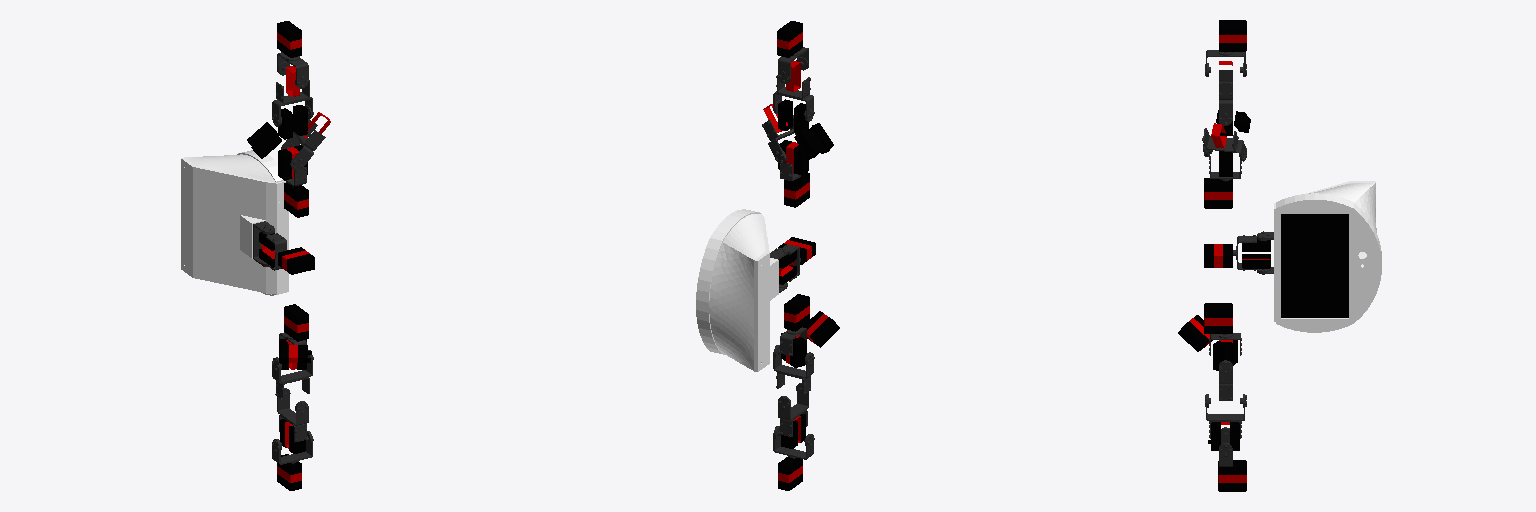
The robot description file, URDF, robot "bobot":
<robot name="bobot" version="1.0">
  <joint name="head" type="revolute">
    <limit lower="-0.50000" upper="0.50000" effort="0.00000" velocity="0.00000"/>
    <origin rpy="0.00000 0.00000 0.00000" xyz="0.00000 1.90250 -0.00500"/>
    <parent link="neck_plast_link"/>
    <child link="head_steel_link"/>
    <axis xyz="0.00000 0.00000 1.00000"/>
  </joint>
  <joint name="leftArm1" type="revolute">
    <limit lower="-1.83000" upper="1.83000" effort="0.00000" velocity="0.00000"/>
    <origin rpy="0.00000 0.00000 0.00000" xyz="-0.00000 17.49999 -6.17249"/>
    <parent link="body0_plast_white_link"/>
    <child link="leftArm1_plast_link"/>
    <axis xyz="0.00000 0.00000 1.00000"/>
  </joint>
  <joint name="leftArm2" type="revolute">
    <limit lower="-1.83400" upper="1.83400" effort="0.00000" velocity="0.00000"/>
    <origin rpy="0.00000 0.00000 0.00000" xyz="-0.00500 -0.00000 -1.87501"/>
    <parent link="leftArm1_plast_link"/>
    <child link="leftArm2_plast_link"/>
    <axis xyz="0.00000 -1.00000 0.00000"/>
  </joint>
  <joint name="leftArm3" type="revolute">
    <limit lower="-1.83400" upper="1.83400" effort="0.00000" velocity="0.00000"/>
    <origin rpy="0.00000 0.00000 0.00000" xyz="0.00000 0.00000 -3.20000"/>
    <parent link="leftArm2_plast_link"/>
    <child link="leftArm3_plast_link"/>
    <axis xyz="0.00000 -1.00000 0.00000"/>
  </joint>
  <joint name="leftArm4" type="revolute">
    <limit lower="-1.83000" upper="1.83000" effort="0.00000" velocity="0.00000"/>
    <origin rpy="0.00000 0.00000 0.00000" xyz="-0.00000 0.00000 -3.20000"/>
    <parent link="leftArm3_plast_link"/>
    <child link="leftArm4_link"/>
    <axis xyz="0.00000 -1.00000 0.00000"/>
  </joint>
  <joint name="leftArm5" type="revolute">
    <limit lower="-1.83400" upper="1.83400" effort="0.00000" velocity="0.00000"/>
    <origin rpy="0.00000 0.00000 0.00000" xyz="-0.00000 -0.00500 -1.32502"/>
    <parent link="leftArm4_link"/>
    <child link="leftArm5_plast_link"/>
    <axis xyz="0.00000 0.00000 1.00000"/>
  </joint>
  <joint name="neck" type="revolute">
    <limit lower="-1.83400" upper="1.83400" effort="0.00000" velocity="0.00000"/>
    <origin rpy="0.00000 0.00000 0.00000" xyz="-0.50000 18.26999 -0.00000"/>
    <parent link="body0_plast_white_link"/>
    <child link="neck_plast_link"/>
    <axis xyz="0.00000 1.00000 0.00000"/>
  </joint>
  <joint name="rightArm1" type="revolute">
    <limit lower="-1.83000" upper="1.83000" effort="0.00000" velocity="0.00000"/>
    <origin rpy="0.00000 0.00000 0.00000" xyz="0.00000 17.49999 6.17249"/>
    <parent link="body0_plast_white_link"/>
    <child link="rightArm1_steel_link"/>
    <axis xyz="0.00000 0.00000 1.00000"/>
  </joint>
  <joint name="rightArm2" type="revolute">
    <limit lower="-1.83400" upper="1.83400" effort="0.00000" velocity="0.00000"/>
    <origin rpy="0.00000 0.00000 0.00000" xyz="-0.00000 0.00500 1.87501"/>
    <parent link="rightArm1_steel_link"/>
    <child link="rightArm2_steel_link"/>
    <axis xyz="0.00000 1.00000 0.00000"/>
  </joint>
  <joint name="rightArm3" type="revolute">
    <limit lower="-1.83400" upper="1.83400" effort="0.00000" velocity="0.00000"/>
    <origin rpy="0.00000 0.00000 0.00000" xyz="0.00000 0.00000 3.20000"/>
    <parent link="rightArm2_steel_link"/>
    <child link="rightArm3_steel_link"/>
    <axis xyz="0.00000 1.00000 0.00000"/>
  </joint>
  <joint name="rightArm4" type="revolute">
    <limit lower="-1.83400" upper="1.83400" effort="0.00000" velocity="0.00000"/>
    <origin rpy="0.00000 0.00000 0.00000" xyz="0.00000 0.00000 3.19999"/>
    <parent link="rightArm3_steel_link"/>
    <child link="rightArm4_link"/>
    <axis xyz="0.00000 1.00000 0.00000"/>
  </joint>
  <joint name="rightArm5" type="revolute">
    <limit lower="-1.83400" upper="1.83400" effort="0.00000" velocity="0.00000"/>
    <origin rpy="0.00000 0.00000 0.00000" xyz="0.00000 -0.00500 1.32502"/>
    <parent link="rightArm4_link"/>
    <child link="rightArm5_red_link"/>
    <axis xyz="0.00000 0.00000 1.00000"/>
  </joint>
  <link name="body0_plast_white_link">
    <visual name="body0_plast_white">
      <origin rpy="0.00000 0.00000 0.00000" xyz="0.00000 0.00000 0.00000"/>
      <material name="white"/>
      <geometry>
        <mesh filename="../meshes/stl/body_white.stl" scale="1.00000 1.00000 1.00000"/>
      </geometry>
    </visual>
    <visual name="body_plast">
      <origin rpy="0.00000 0.00000 0.00000" xyz="0.00000 0.00000 0.00000"/>
      <material name="black"/>
      <geometry>
        <mesh filename="../meshes/stl/body_black.stl" scale="1.00000 1.00000 1.00000"/>
      </geometry>
    </visual>
    <visual name="body_plast_red">
      <origin rpy="0.00000 0.00000 0.00000" xyz="0.00000 0.00000 0.00000"/>
      <material name="red"/>
      <geometry>
        <mesh filename="../meshes/stl/body_red.stl" scale="1.00000 1.00000 1.00000"/>
      </geometry>
    </visual>
  </link>
  <link name="head_steel_link">
    <visual name="head_plast">
      <origin rpy="0.00000 0.00000 0.00000" xyz="0.00000 1.32502 0.00500"/>
      <material name="whiteHead"/>
      <geometry>
        <mesh filename="../meshes/stl/head_white.stl" scale="1.00000 1.00000 1.00000"/>
      </geometry>
    </visual>
    <visual name="head_screen">
      <origin rpy="0.00000 0.00000 0.00000" xyz="0.00000 1.32502 0.00500"/>
      <material name="black"/>
      <geometry>
        <mesh filename="../meshes/stl/head_black.stl" scale="1.00000 1.00000 1.00000"/>
      </geometry>
    </visual>
    <visual name="head_steel">
      <origin rpy="0.00000 0.00000 0.00000" xyz="0.00000 0.00000 0.00000"/>
      <material name="steel"/>
      <geometry>
        <mesh filename="../meshes/stl/head_steel.stl" scale="1.00000 1.00000 1.00000"/>
      </geometry>
    </visual>
  </link>
  <link name="leftArm1_plast_link">
    <visual name="leftArm1_plast">
      <origin rpy="0.00000 0.00000 0.00000" xyz="0.00000 -0.00000 0.00000"/>
      <material name="black"/>
      <geometry>
        <mesh filename="../meshes/stl/LAP1.stl" scale="1.00000 1.00000 1.00000"/>
      </geometry>
    </visual>
    <visual name="leftArm1_red">
      <origin rpy="0.00000 0.00000 0.00000" xyz="-0.00000 -0.00000 0.00000"/>
      <material name="red"/>
      <geometry>
        <mesh filename="../meshes/stl/LAR1.stl" scale="1.00000 1.00000 1.00000"/>
      </geometry>
    </visual>
    <visual name="leftArm1_steel">
      <origin rpy="0.00000 0.00000 0.00000" xyz="-0.00000 -0.00000 0.00000"/>
      <material name="steel"/>
      <geometry>
        <mesh filename="../meshes/stl/LAS1.stl" scale="1.00000 1.00000 1.00000"/>
      </geometry>
    </visual>
  </link>
  <link name="leftArm2_plast_link">
    <visual name="leftArm2_plast">
      <origin rpy="0.00000 0.00000 0.00000" xyz="0.00000 0.00000 0.00000"/>
      <material name="black"/>
      <geometry>
        <mesh filename="../meshes/stl/LAP2.stl" scale="1.00000 1.00000 1.00000"/>
      </geometry>
    </visual>
    <visual name="leftArm2_red">
      <origin rpy="0.00000 0.00000 0.00000" xyz="0.00000 0.00000 0.00000"/>
      <material name="red"/>
      <geometry>
        <mesh filename="../meshes/stl/LAR2.stl" scale="1.00000 1.00000 1.00000"/>
      </geometry>
    </visual>
    <visual name="leftArm2_steel">
      <origin rpy="0.00000 0.00000 0.00000" xyz="0.00000 0.00000 0.00000"/>
      <material name="steel"/>
      <geometry>
        <mesh filename="../meshes/stl/LAS2.stl" scale="1.00000 1.00000 1.00000"/>
      </geometry>
    </visual>
  </link>
  <link name="leftArm3_plast_link">
    <visual name="leftArm3_plast">
      <origin rpy="0.00000 0.00000 0.00000" xyz="0.00000 0.00000 0.00000"/>
      <material name="black"/>
      <geometry>
        <mesh filename="../meshes/stl/LAP3.stl" scale="1.00000 1.00000 1.00000"/>
      </geometry>
    </visual>
    <visual name="leftArm3_red">
      <origin rpy="0.00000 0.00000 0.00000" xyz="-0.00000 0.00000 0.00000"/>
      <material name="red"/>
      <geometry>
        <mesh filename="../meshes/stl/LAR3.stl" scale="1.00000 1.00000 1.00000"/>
      </geometry>
    </visual>
    <visual name="leftArm3_steel">
      <origin rpy="0.00000 0.00000 0.00000" xyz="-0.00000 0.00000 0.00000"/>
      <material name="steel"/>
      <geometry>
        <mesh filename="../meshes/stl/LAS3.stl" scale="1.00000 1.00000 1.00000"/>
      </geometry>
    </visual>
  </link>
  <link name="leftArm4_link">
    <visual name="leftArm4">
      <origin rpy="0.00000 0.00000 0.00000" xyz="0.00000 0.00000 0.00000"/>
      <material name="steel"/>
      <geometry>
        <mesh filename="../meshes/stl/LAS4.stl" scale="1.00000 1.00000 1.00000"/>
      </geometry>
    </visual>
  </link>
  <link name="leftArm5_plast_link">
    <visual name="leftArm5_plast">
      <origin rpy="0.00000 0.00000 0.00000" xyz="0.00000 0.00000 0.00000"/>
      <material name="blackLa"/>
      <geometry>
        <mesh filename="../meshes/stl/LAP5.stl" scale="1.00000 1.00000 1.00000"/>
      </geometry>
    </visual>
    <visual name="leftArm5_red">
      <origin rpy="0.00000 0.00000 0.00000" xyz="0.00000 0.00000 0.00000"/>
      <material name="red"/>
      <geometry>
        <mesh filename="../meshes/stl/LAR5.stl" scale="1.00000 1.00000 1.00000"/>
      </geometry>
    </visual>
  </link>
  <link name="neck_plast_link">
    <visual name="neck_plast">
      <origin rpy="0.00000 0.00000 0.00000" xyz="0.00000 0.00000 0.00000"/>
      <material name="black"/>
      <geometry>
        <mesh filename="../meshes/stl/NP.stl" scale="1.00000 1.00000 1.00000"/>
      </geometry>
    </visual>
    <visual name="neck_red">
      <origin rpy="0.00000 0.00000 0.00000" xyz="0.00000 0.00000 0.00000"/>
      <material name="red"/>
      <geometry>
        <mesh filename="../meshes/stl/NR.stl" scale="1.00000 1.00000 1.00000"/>
      </geometry>
    </visual>
    <visual name="neck_steel">
      <origin rpy="0.00000 0.00000 0.00000" xyz="0.00000 0.00000 0.00000"/>
      <material name="steel"/>
      <geometry>
        <mesh filename="../meshes/stl/NS.stl" scale="1.00000 1.00000 1.00000"/>
      </geometry>
    </visual>
  </link>
  <link name="rightArm1_steel_link">
    <visual name="rightArm1_plast">
      <origin rpy="0.00000 0.00000 0.00000" xyz="-0.00000 0.00000 0.00000"/>
      <material name="black"/>
      <geometry>
        <mesh filename="../meshes/stl/RAP1.stl" scale="1.00000 1.00000 1.00000"/>
      </geometry>
    </visual>
    <visual name="rightArm1_red">
      <origin rpy="0.00000 0.00000 0.00000" xyz="-0.00000 0.00000 0.00000"/>
      <material name="red"/>
      <geometry>
        <mesh filename="../meshes/stl/RAR1.stl" scale="1.00000 1.00000 1.00000"/>
      </geometry>
    </visual>
    <visual name="rightArm1_steel">
      <origin rpy="0.00000 0.00000 0.00000" xyz="-0.00000 0.00000 0.00000"/>
      <material name="steel"/>
      <geometry>
        <mesh filename="../meshes/stl/RAS1.stl" scale="1.00000 1.00000 1.00000"/>
      </geometry>
    </visual>
  </link>
  <link name="rightArm2_steel_link">
    <visual name="rightArm2_plast">
      <origin rpy="0.00000 0.00000 0.00000" xyz="0.00000 0.00000 0.00000"/>
      <material name="black"/>
      <geometry>
        <mesh filename="../meshes/stl/RAP2.stl" scale="1.00000 1.00000 1.00000"/>
      </geometry>
    </visual>
    <visual name="rightArm2_red">
      <origin rpy="0.00000 0.00000 0.00000" xyz="0.00000 0.00000 0.00000"/>
      <material name="red"/>
      <geometry>
        <mesh filename="../meshes/stl/RAR2.stl" scale="1.00000 1.00000 1.00000"/>
      </geometry>
    </visual>
    <visual name="rightArm2_steel">
      <origin rpy="0.00000 0.00000 0.00000" xyz="0.00000 0.00000 0.00000"/>
      <material name="steel"/>
      <geometry>
        <mesh filename="../meshes/stl/RAS2.stl" scale="1.00000 1.00000 1.00000"/>
      </geometry>
    </visual>
  </link>
  <link name="rightArm3_steel_link">
    <visual name="rightArm3_plast">
      <origin rpy="0.00000 0.00000 0.00000" xyz="0.00000 0.00000 0.00000"/>
      <material name="black"/>
      <geometry>
        <mesh filename="../meshes/stl/RAP3.stl" scale="1.00000 1.00000 1.00000"/>
      </geometry>
    </visual>
    <visual name="rightArm3_red">
      <origin rpy="0.00000 0.00000 0.00000" xyz="0.00000 0.00000 0.00000"/>
      <material name="red"/>
      <geometry>
        <mesh filename="../meshes/stl/RAR3.stl" scale="1.00000 1.00000 1.00000"/>
      </geometry>
    </visual>
    <visual name="rightArm3_steel">
      <origin rpy="0.00000 0.00000 0.00000" xyz="0.00000 0.00000 0.00000"/>
      <material name="steel"/>
      <geometry>
        <mesh filename="../meshes/stl/RAS3.stl" scale="1.00000 1.00000 1.00000"/>
      </geometry>
    </visual>
  </link>
  <link name="rightArm4_link">
    <visual name="rightArm4">
      <origin rpy="0.00000 0.00000 0.00000" xyz="0.00000 0.00000 0.00000"/>
      <material name="steel"/>
      <geometry>
        <mesh filename="../meshes/stl/RAS4.stl" scale="1.00000 1.00000 1.00000"/>
      </geometry>
    </visual>
  </link>
  <link name="rightArm5_red_link">
    <visual name="rightArm5_plast">
      <origin rpy="0.00000 0.00000 0.00000" xyz="0.00000 0.00000 0.00000"/>
      <material name="blackRarm"/>
      <geometry>
        <mesh filename="../meshes/stl/RAP5.stl" scale="1.00000 1.00000 1.00000"/>
      </geometry>
    </visual>
    <visual name="rightArm5_red">
      <origin rpy="0.00000 0.00000 0.00000" xyz="0.00000 0.00000 0.00000"/>
      <material name="red"/>
      <geometry>
        <mesh filename="../meshes/stl/RAR5.stl" scale="1.00000 1.00000 1.00000"/>
      </geometry>
    </visual>
  </link>
  <material name="black">
    <color rgba="0.01569 0.01569 0.01569 1.00000"/>
  </material>
  <material name="blackLa">
    <color rgba="0.01569 0.01569 0.01569 1.00000"/>
  </material>
  <material name="blackRarm">
    <color rgba="0.01569 0.01569 0.01569 1.00000"/>
  </material>
  <material name="red">
    <color rgba="0.80000 0.00000 0.00000 1.00000"/>
  </material>
  <material name="steel">
    <color rgba="0.21569 0.21569 0.21569 1.00000"/>
  </material>
  <material name="white">
    <color rgba="1.00000 1.00000 1.00000 1.00000"/>
  </material>
  <material name="whiteHead">
    <color rgba="1.00000 1.00000 1.00000 1.00000"/>
  </material>
</robot>

--- Facts derived from the render (not from the file) ---
3 views of the same robot in one strip: view 1: azimuth 30°, elevation 25°; view 2: azimuth 150°, elevation 25°; view 3: azimuth 270°, elevation 25° (orthographic).
Model bobot with 13 links and 12 joints (12 revolute), rooted at body0_plast_white_link, posed all joints at 0.
Links seen in each view (by area): view 1: head_steel_link, body0_plast_white_link, rightArm2_steel_link, rightArm3_steel_link, leftArm3_plast_link, leftArm2_plast_link, rightArm1_steel_link, rightArm5_red_link, neck_plast_link, rightArm4_link, leftArm5_plast_link, leftArm4_link; view 2: head_steel_link, rightArm3_steel_link, body0_plast_white_link, leftArm2_plast_link, rightArm2_steel_link, leftArm3_plast_link, leftArm1_plast_link, rightArm1_steel_link, rightArm5_red_link, leftArm5_plast_link, neck_plast_link, leftArm4_link (+1 smaller); view 3: head_steel_link, body0_plast_white_link, leftArm2_plast_link, rightArm3_steel_link, leftArm3_plast_link, rightArm2_steel_link, neck_plast_link, rightArm5_red_link, leftArm1_plast_link, leftArm5_plast_link, rightArm1_steel_link.
Link boxes in pixels (x1,y1,x2,y2): head_steel_link: [181, 150, 288, 295]; body0_plast_white_link: [278, 183, 314, 341]; rightArm2_steel_link: [278, 105, 330, 170]; rightArm3_steel_link: [247, 66, 313, 158]; leftArm3_plast_link: [277, 388, 308, 453]; leftArm2_plast_link: [272, 345, 313, 400]; rightArm1_steel_link: [278, 145, 307, 186]; rightArm5_red_link: [277, 21, 301, 57]; neck_plast_link: [259, 232, 286, 270]; rightArm4_link: [277, 52, 308, 88]; leftArm5_plast_link: [277, 454, 301, 490]; leftArm4_link: [272, 431, 313, 464]; head_steel_link: [696, 209, 787, 371]; rightArm3_steel_link: [773, 61, 833, 159]; body0_plast_white_link: [778, 172, 815, 331]; leftArm2_plast_link: [773, 311, 839, 395]; rightArm2_steel_link: [762, 99, 808, 163]; leftArm3_plast_link: [778, 383, 808, 448]; leftArm1_plast_link: [780, 327, 806, 367]; rightArm1_steel_link: [778, 140, 808, 180]; rightArm5_red_link: [777, 21, 802, 57]; leftArm5_plast_link: [778, 457, 802, 490]; neck_plast_link: [779, 244, 800, 284]; leftArm4_link: [773, 426, 814, 459]; head_steel_link: [1257, 181, 1381, 332]; body0_plast_white_link: [1204, 178, 1232, 333]; leftArm2_plast_link: [1178, 315, 1232, 400]; rightArm3_steel_link: [1216, 61, 1250, 132]; leftArm3_plast_link: [1205, 394, 1246, 450]; rightArm2_steel_link: [1202, 121, 1246, 161]; neck_plast_link: [1233, 235, 1270, 270]; rightArm5_red_link: [1219, 20, 1246, 51]; leftArm1_plast_link: [1209, 333, 1241, 370]; leftArm5_plast_link: [1218, 460, 1246, 491]; rightArm1_steel_link: [1209, 151, 1241, 181].
Bounding box of the posed robot: 6.01 × 14.35 × 36.14 m (x, y, z).
32 mesh visuals loaded from 33 distinct referenced files (32 binary STL); not drawn: 1 (reference not matched to a file when rendering).
